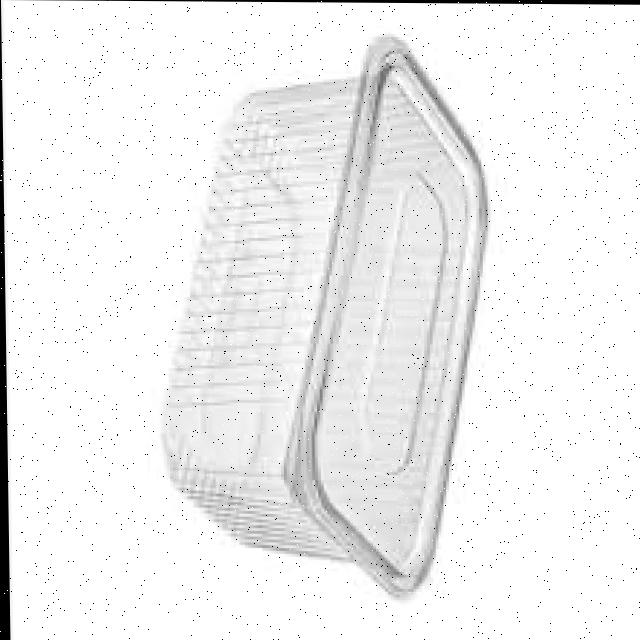disposable: (126, 38, 519, 610)
